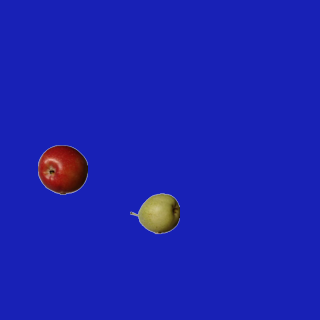Apple Braeburn: (37, 144, 87, 194)
Pear: (129, 188, 179, 238)
